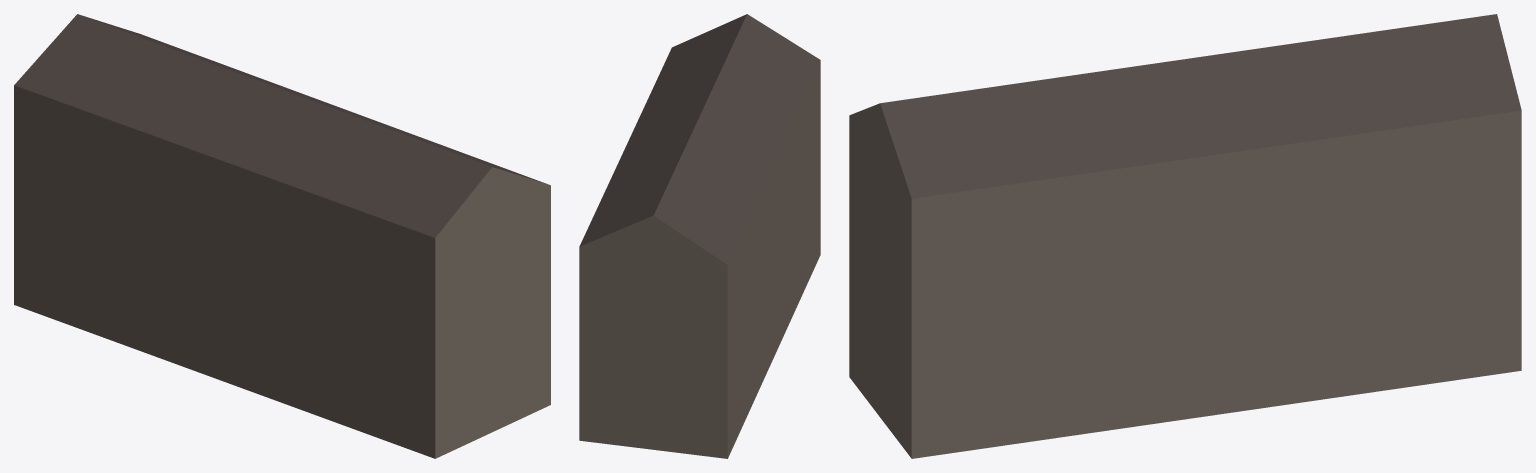
3 renders of one model, left to right at view 1: azimuth 30°, elevation 25°; view 2: azimuth 150°, elevation 25°; view 3: azimuth 270°, elevation 25°, orthographic. The views are drawn at different scales.
Parts seen in each view (by area): view 1: HP-w1198840866; view 2: HP-w1198840866; view 3: HP-w1198840866.
Part boxes in pixels (x1,y1,x2,y2): HP-w1198840866: (14,14,550,458); HP-w1198840866: (579,14,820,458); HP-w1198840866: (849,14,1521,458).
Size of the model in its own units: 8.58 by 7.25 by 14.06.
